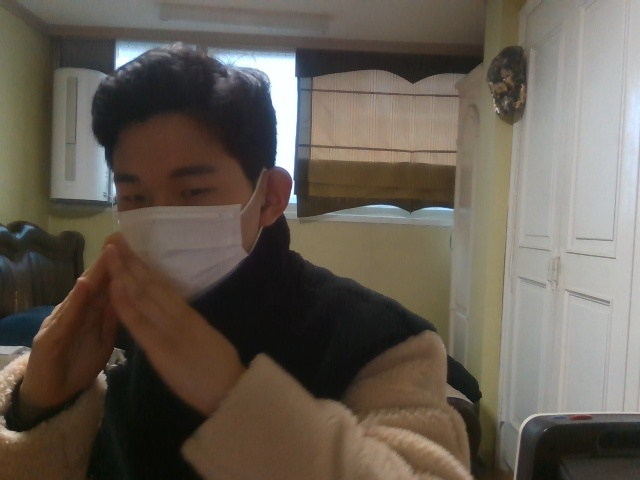HOME: (21, 230, 236, 406)
